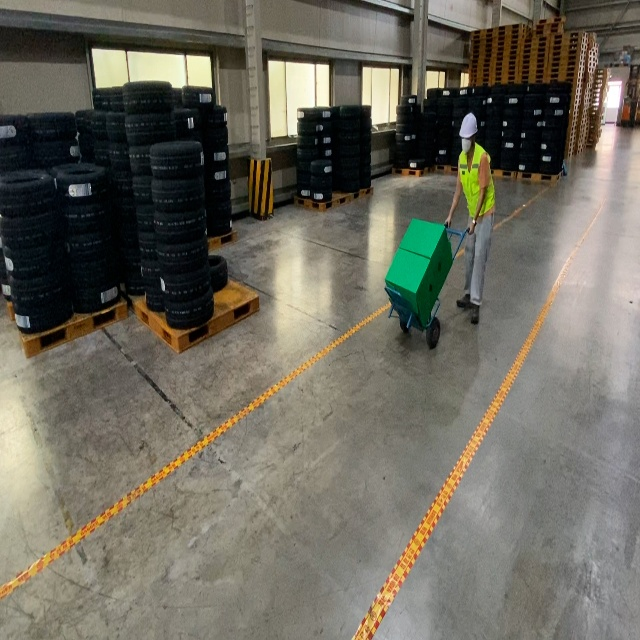Box: (384, 247, 439, 328), (399, 217, 453, 295)
Worker: (445, 113, 495, 324)
